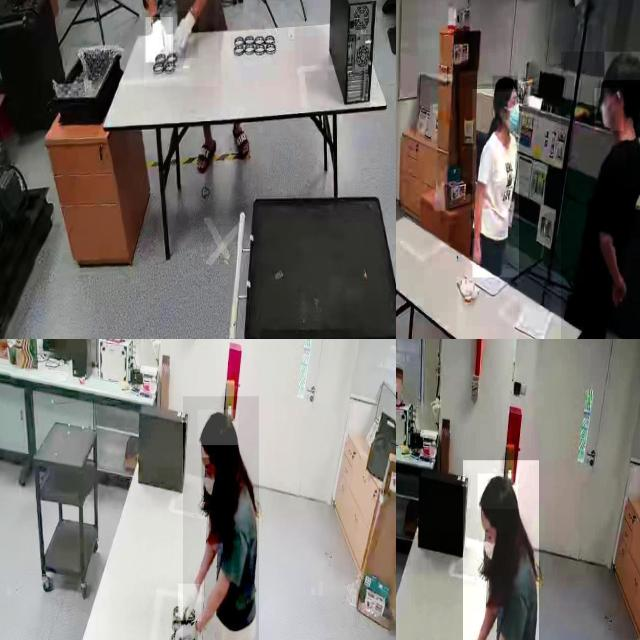face_mask: (594, 88, 624, 131), (504, 85, 521, 135), (201, 458, 219, 502), (481, 522, 499, 566)
hand_glove: (171, 11, 199, 59), (146, 17, 173, 63), (178, 584, 202, 621), (174, 620, 198, 640)
hand_noglove: (610, 274, 628, 308), (470, 238, 482, 265)
head_nohelmet: (198, 410, 238, 446), (478, 474, 518, 510), (604, 51, 640, 81), (492, 76, 518, 92)
person: (561, 51, 640, 339), (182, 396, 259, 640), (462, 460, 539, 640), (472, 89, 520, 278), (144, 0, 219, 87)
